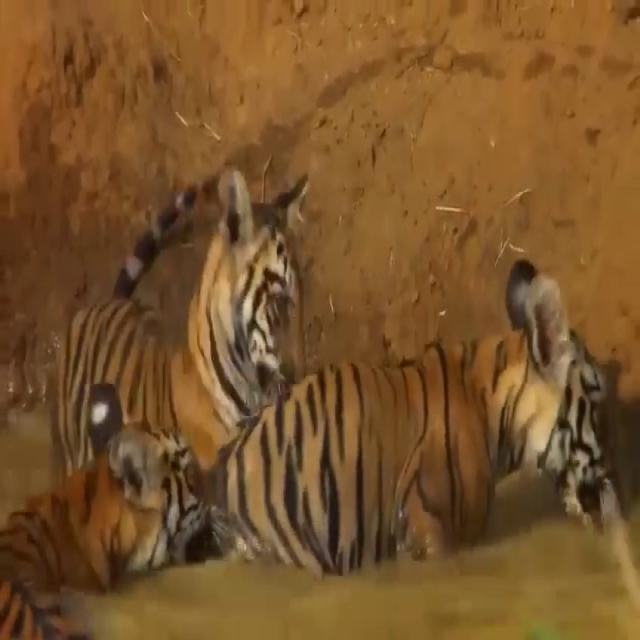tiger: (231, 260, 618, 575), (54, 167, 306, 470), (0, 381, 228, 640)
